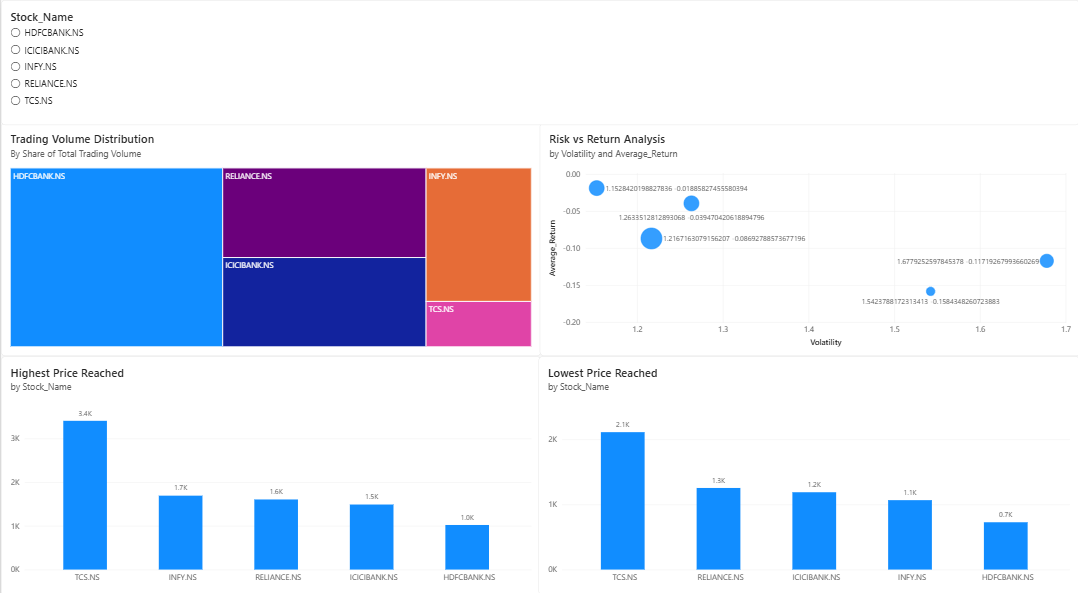

Layout of this report page (visuals, bound fields, positions):
{"tool":"powerbi","page":{"name":"Stock Insights","canvas":[1920,1080],"ordinal":2},"visuals":[{"type":"treemap","title":"Trading Volume Distribution","fields":{"Group":["vw_Daily_Stock_Data.Stock_Name"],"Values":["Avg(vw_Daily_Stock_Data.Volume)"]},"box":[0,217.8,960,415.6],"z":0},{"type":"scatterChart","title":"Risk vs Return Analysis","fields":{"Size":["Avg(vw_Stock_Performance.Average_Volume)"],"X":["vw_Stock_Performance.Volatility"],"Y":["vw_Stock_Performance.Average_Return"]},"box":[957.8,217.8,962.2,415.6],"z":1000},{"type":"clusteredColumnChart","title":"Highest Price Reached","fields":{"Category":["vw_Stock_Performance.Stock_Name"],"Y":["Avg(vw_Stock_Performance.Highest_Price)"]},"box":[0,633.3,960,424.4],"z":2000},{"type":"clusteredColumnChart","title":"Lowest Price Reached","fields":{"Category":["vw_Stock_Performance.Stock_Name"],"Y":["Min(vw_Stock_Performance.Lowest_Price)"]},"box":[955.6,633.3,962.2,424.4],"z":3000},{"type":"listSlicer","fields":{"Values":["vw_Stock_Performance.Stock_Name"]},"box":[0,0,1917.8,222.2],"z":4000}]}

Visuals, with their boxes in screenshot pixels (x1, y1, x2, y2), scaled from the page's 1920x1080 canvas onto the 1078x593 screenshot:
"Trading Volume Distribution" treemap: box=[0, 120, 539, 348]
"Risk vs Return Analysis" scatterChart: box=[538, 120, 1077, 348]
"Highest Price Reached" clusteredColumnChart: box=[0, 348, 539, 581]
"Lowest Price Reached" clusteredColumnChart: box=[537, 348, 1077, 581]
listSlicer - vw_Stock_Performance.Stock_Name: box=[0, 0, 1077, 122]
